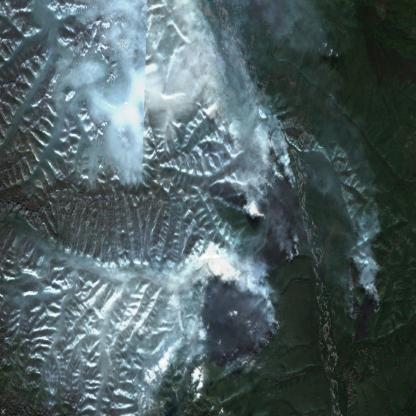fire: (186, 108, 312, 378), (344, 270, 394, 317), (124, 306, 157, 350)
